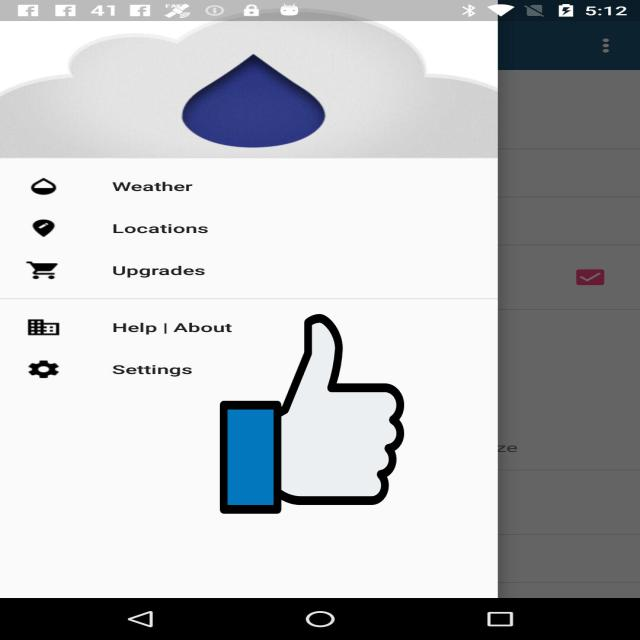privacy zuckering: (220, 310, 404, 518)
